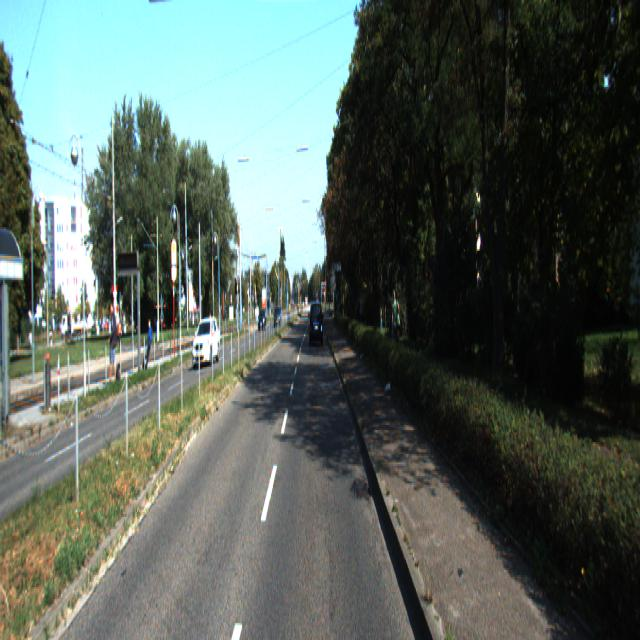Car: (192, 316, 220, 368), (310, 300, 324, 346)
